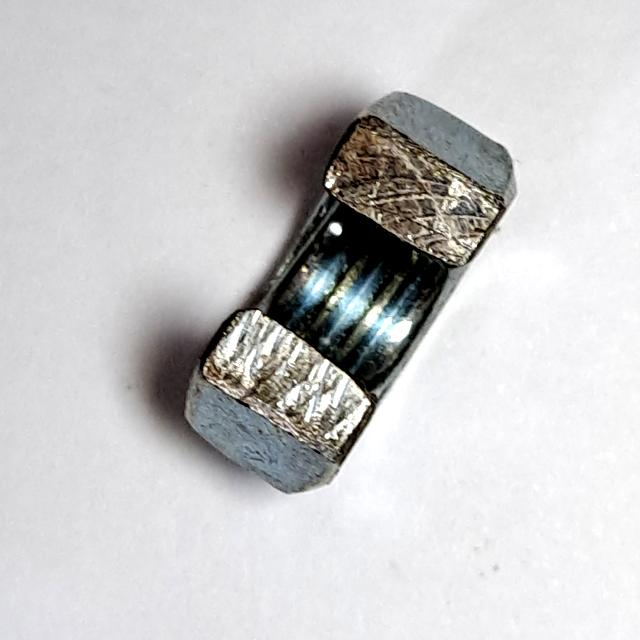Side-Fracture: (169, 76, 525, 511)
